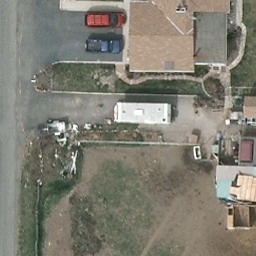camping car: (112, 102, 175, 126)
car: (82, 12, 126, 29)
pickup: (80, 37, 124, 57)
